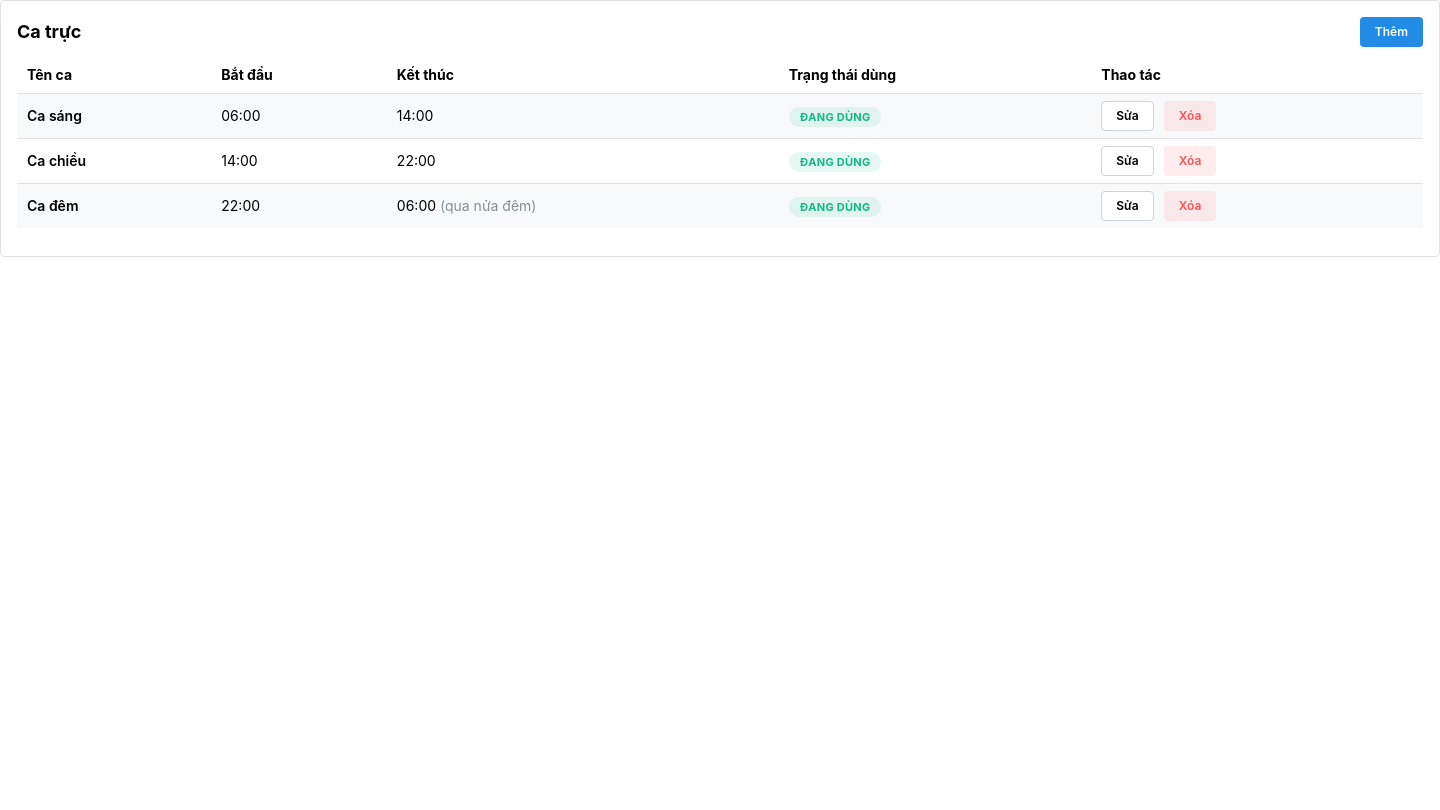
Test: ShiftsTab › add overlapping shift shows the API message
Click the button "Thêm". click: [1391, 32]
box: [1360, 17, 1423, 47]
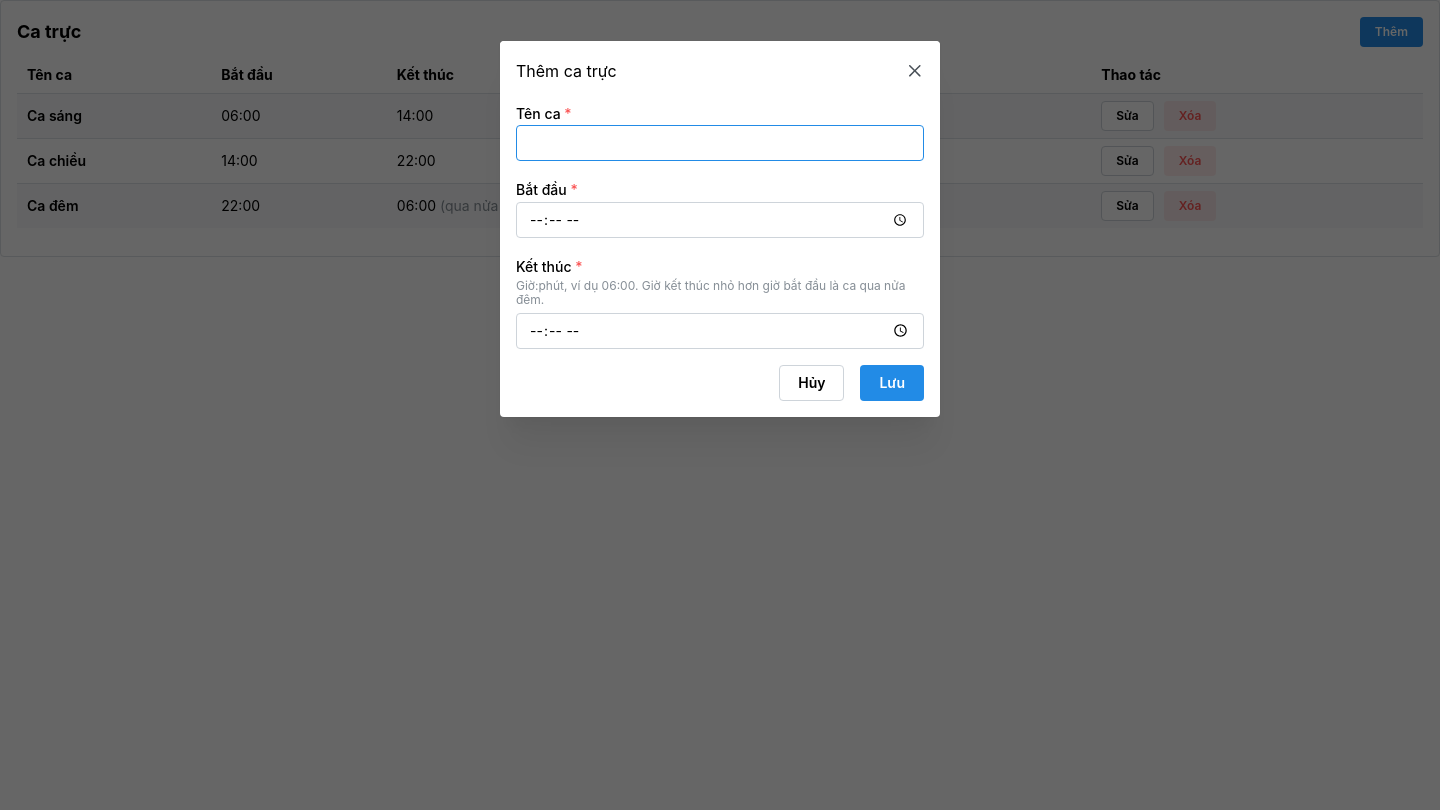
Type "Ca rạng sáng" into the field labelled "Tên ca *". click: [720, 143]
box: [516, 125, 924, 161]
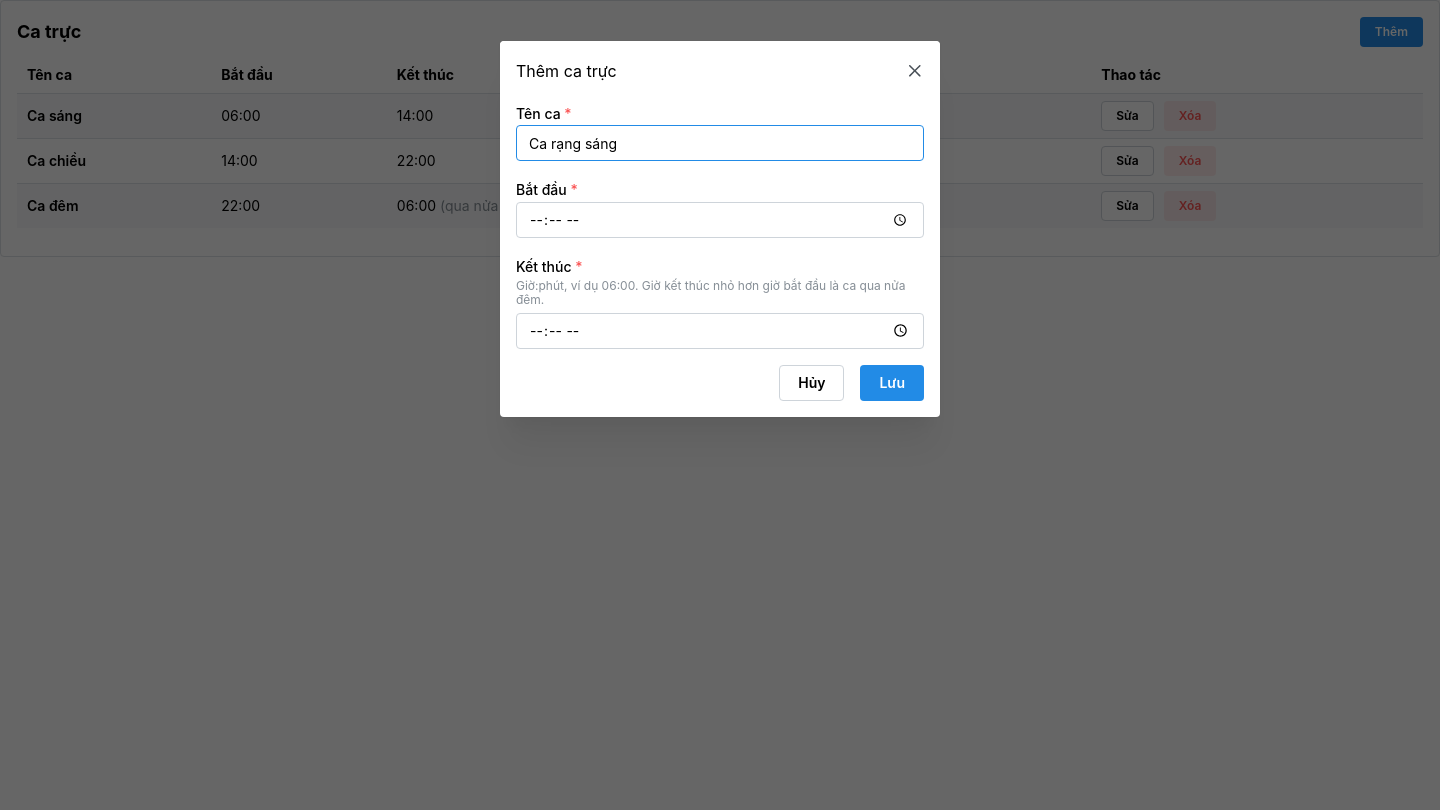
Type "04:00" into the time field labelled "Bắt đầu *". click: [720, 220]
box: [516, 202, 924, 238]
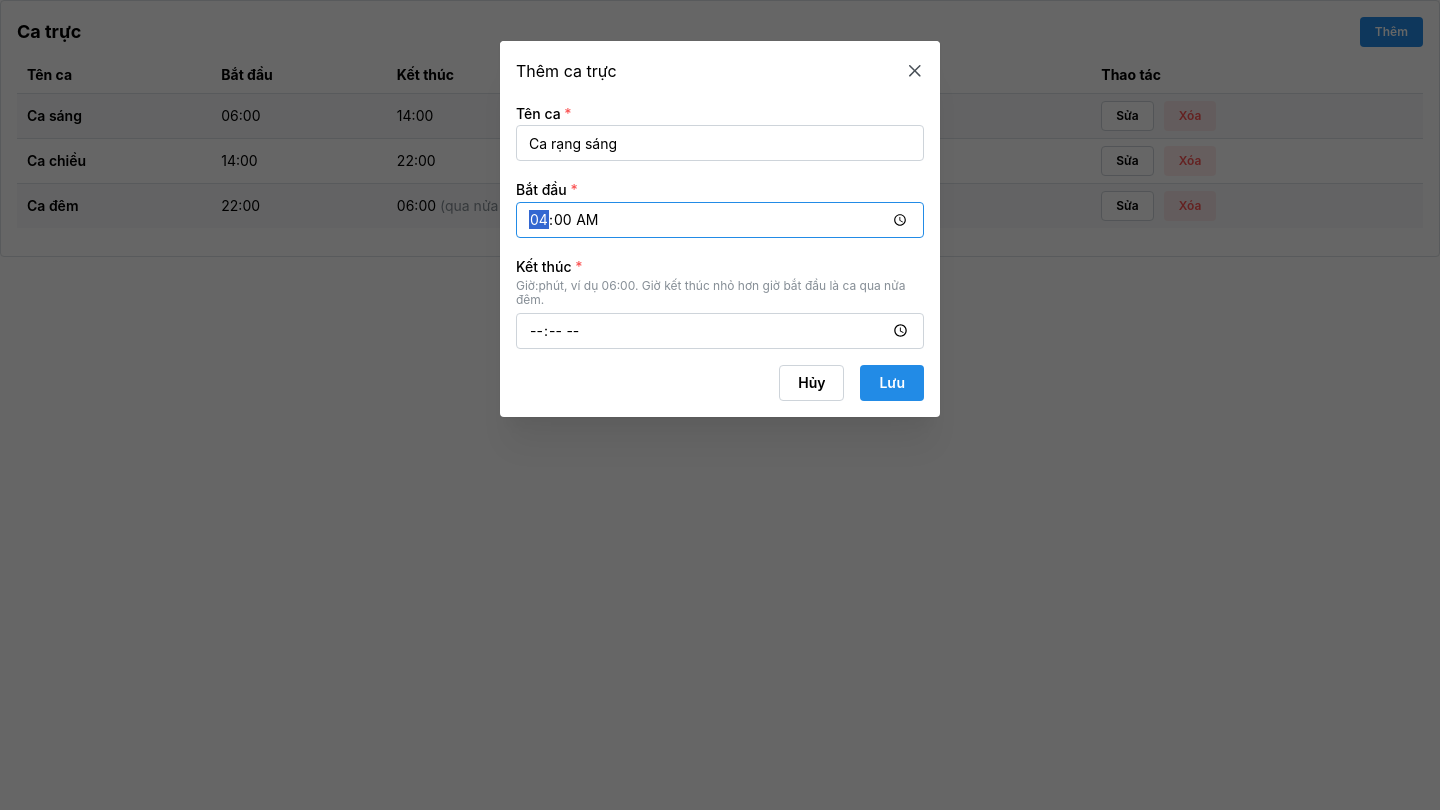
Type "07:00" into the time field labelled "Kết thúc *". click: [720, 331]
box: [516, 313, 924, 349]
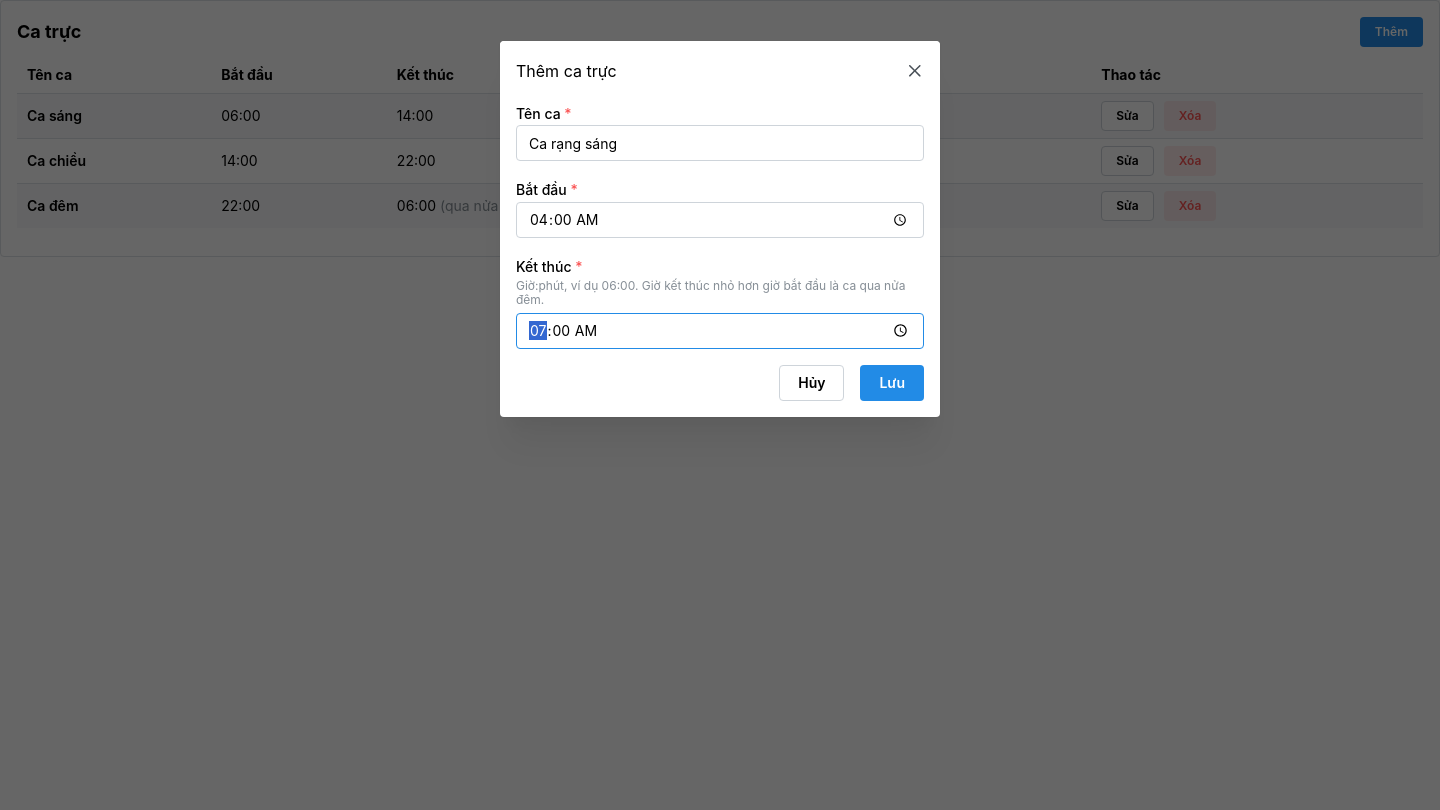
Click the button "Lưu". click: [892, 383]
box: [860, 365, 924, 401]
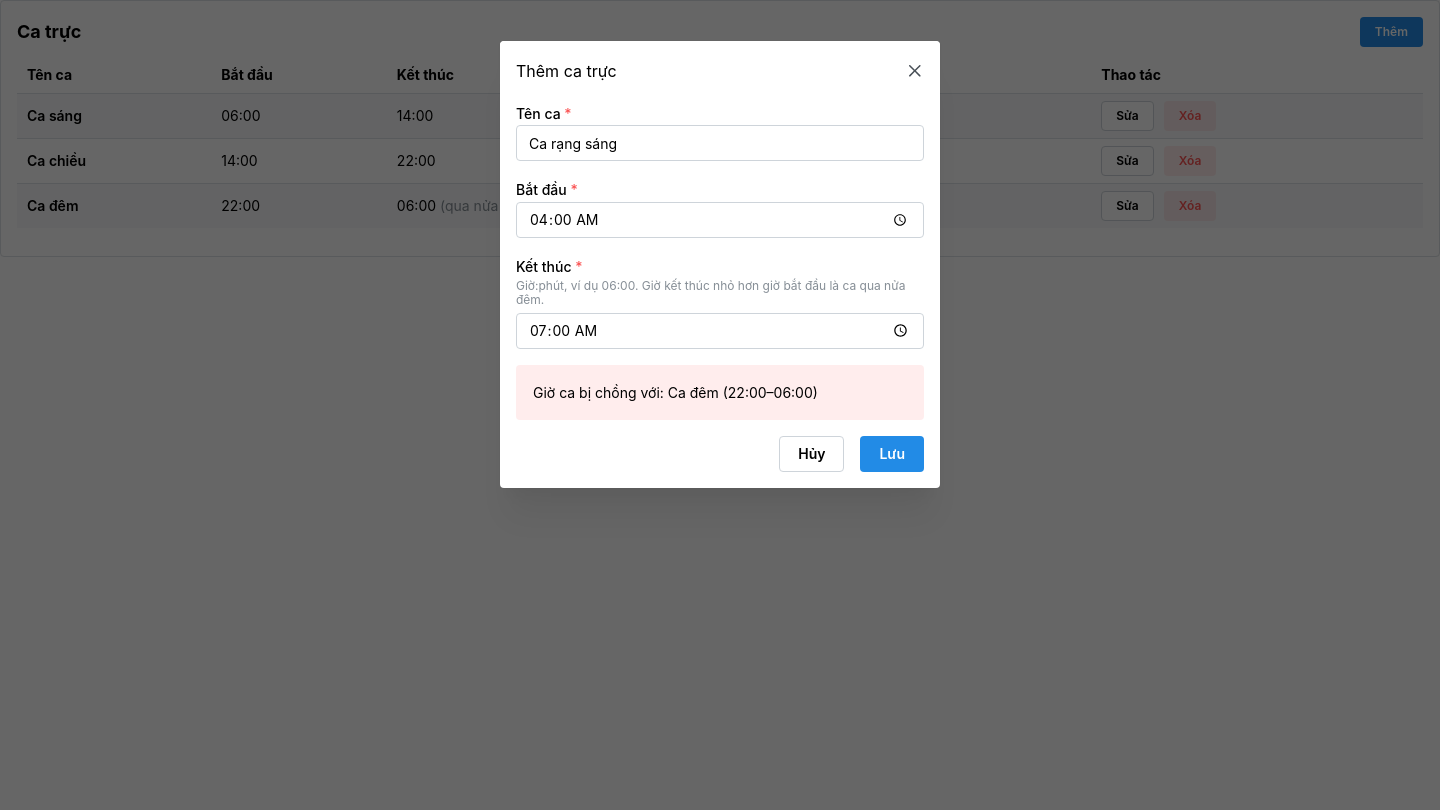
Result: the text "Giờ ca bị chồng với: Ca đêm (22:00–06:00)" is shown at [533, 384, 818, 401]
